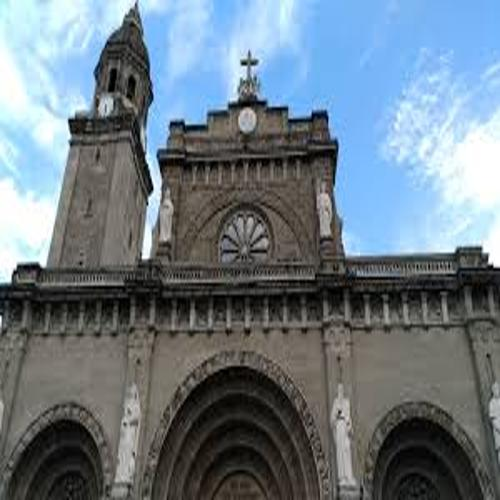Manila Cathedral Church: (12, 4, 494, 497)
